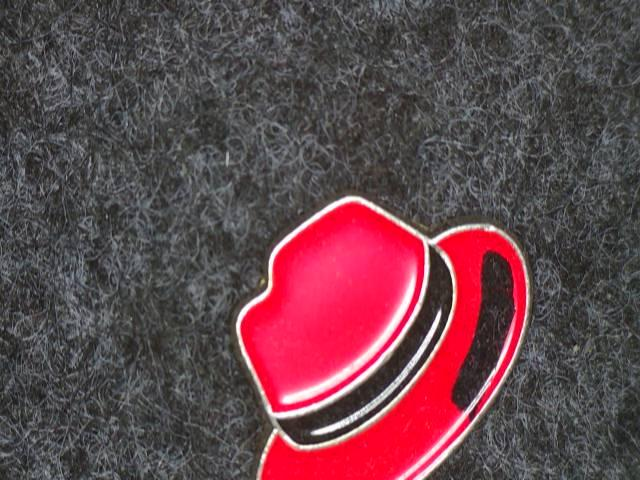Red-Hat: (193, 171, 566, 480)
Scratch: (450, 239, 532, 434)
